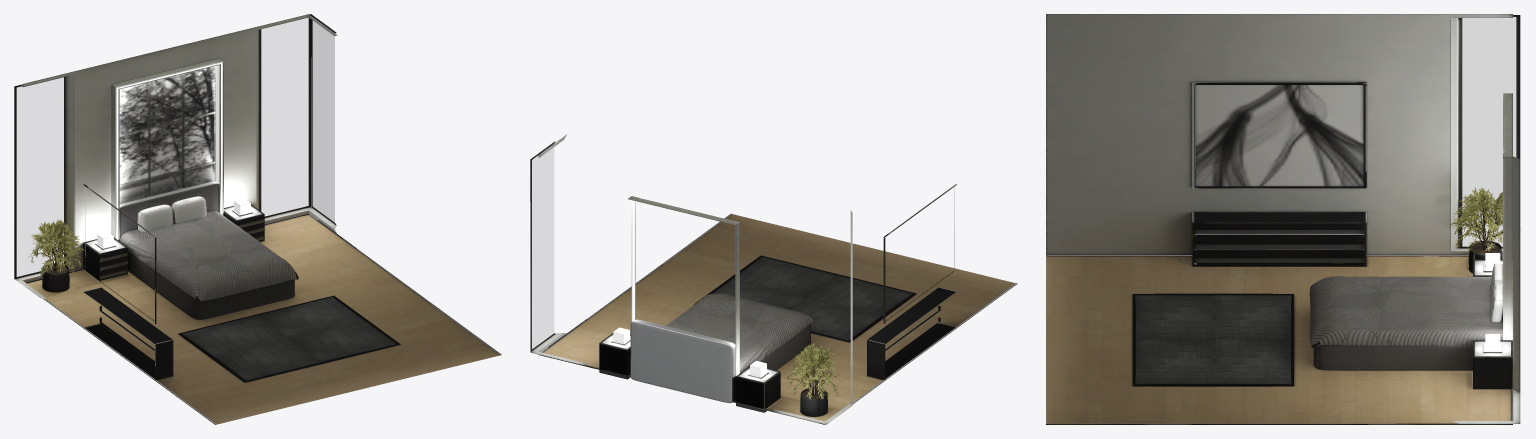
File: room.glb
The picture shows the model from 3 angles, left to right: view 1: azimuth 30°, elevation 25°; view 2: azimuth 150°, elevation 25°; view 3: azimuth 270°, elevation 25°; orthographic projection. The views are drawn at different scales.
Visible parts, largest first — view 1: Bedroom, Bedroom_Bedroom_0.001; view 2: Bedroom, Bedroom_Bedroom_0.001; view 3: Bedroom, Bedroom_Bedroom_0.001.
Part boxes in pixels (<box>): Bedroom: <box>14,14,501,424</box>; Bedroom_Bedroom_0.001: <box>38,192,206,292</box>; Bedroom: <box>530,134,1017,424</box>; Bedroom_Bedroom_0.001: <box>654,343,835,416</box>; Bedroom: <box>1046,14,1520,424</box>; Bedroom_Bedroom_0.001: <box>1458,188,1502,322</box>.
Size of the model in its own units: 5.33 by 3.48 by 6.11.
Materials: 4 (3 with a texture image).
